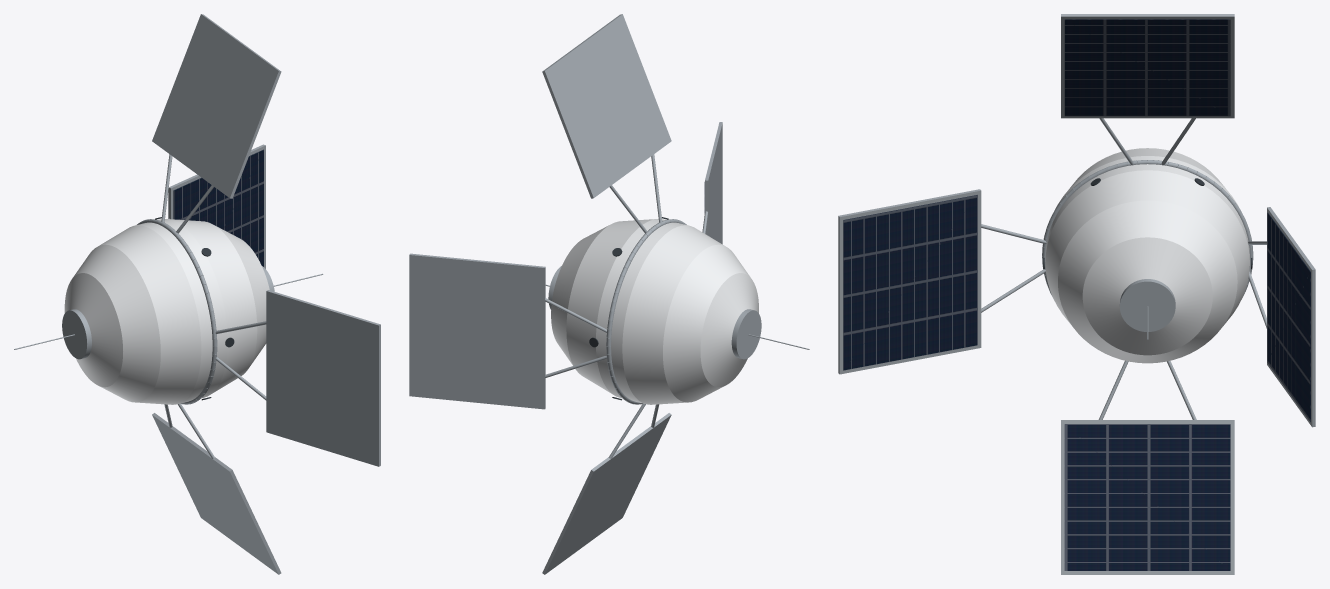
Rendered from explorer-6-atlas.glb.
3 views of the same model, side by side, from view 1: azimuth 30°, elevation 25°; view 2: azimuth 150°, elevation 25°; view 3: azimuth 270°, elevation 25° (orthographic). The views are drawn at different scales.
Visible parts, largest first — view 1: Solar paddle frame 1, Solar paddle frame 0, Spheroidal shell section 2, Spheroidal shell section 1, Solar paddle frame 2, Spheroidal shell section 4, Solar paddle cells 3, Spheroidal shell section 3, Spheroidal shell section 0, Spheroidal shell section 5, Polar instrument cap, Solar paddle frame 3; view 2: Solar paddle frame 3, Solar paddle frame 0, Spheroidal shell section 2, Spheroidal shell section 1, Solar paddle frame 2, Spheroidal shell section 4, Spheroidal shell section 3, Spheroidal shell section 0, Spheroidal shell section 5, Solar paddle frame 1, Polar instrument cap; view 3: Solar paddle cells 2, Solar paddle cells 1, Solar paddle cells 0, Spheroidal shell section 5, Spheroidal shell section 6, Spheroidal shell section 4, Solar paddle cells 3, Solar paddle frame 1, Solar paddle frame 2, Solar paddle frame 0, Polar instrument cap, Spheroidal shell section 3 (+2 smaller).
Boxes of the visible parts, bbox=[...] form: Solar paddle frame 1: bbox=[266, 290, 380, 466]; Solar paddle frame 0: bbox=[152, 14, 281, 198]; Spheroidal shell section 2: bbox=[99, 225, 201, 404]; Spheroidal shell section 1: bbox=[73, 244, 160, 402]; Solar paddle frame 2: bbox=[152, 413, 281, 574]; Spheroidal shell section 4: bbox=[168, 219, 257, 393]; Solar paddle cells 3: bbox=[173, 149, 263, 266]; Spheroidal shell section 3: bbox=[135, 219, 227, 403]; Spheroidal shell section 0: bbox=[64, 273, 122, 387]; Spheroidal shell section 5: bbox=[214, 225, 269, 367]; Polar instrument cap: bbox=[62, 309, 91, 359]; Solar paddle frame 3: bbox=[168, 144, 265, 268]; Solar paddle frame 3: bbox=[409, 253, 545, 409]; Solar paddle frame 0: bbox=[542, 14, 671, 198]; Spheroidal shell section 2: bbox=[622, 225, 724, 404]; Spheroidal shell section 1: bbox=[663, 244, 750, 402]; Solar paddle frame 2: bbox=[542, 413, 671, 574]; Spheroidal shell section 4: bbox=[566, 219, 654, 393]; Spheroidal shell section 3: bbox=[596, 219, 688, 403]; Spheroidal shell section 0: bbox=[700, 273, 758, 387]; Spheroidal shell section 5: bbox=[551, 225, 608, 365]; Solar paddle frame 1: bbox=[705, 122, 722, 244]; Polar instrument cap: bbox=[731, 309, 761, 359]; Solar paddle cells 2: bbox=[1064, 424, 1230, 570]; Solar paddle cells 1: bbox=[843, 195, 977, 370]; Solar paddle cells 0: bbox=[1064, 19, 1230, 116]; Spheroidal shell section 5: bbox=[1058, 200, 1237, 363]; Spheroidal shell section 6: bbox=[1082, 237, 1212, 355]; Spheroidal shell section 4: bbox=[1045, 170, 1249, 326]; Solar paddle cells 3: bbox=[1267, 212, 1310, 422]; Solar paddle frame 1: bbox=[838, 189, 981, 374]; Solar paddle frame 2: bbox=[1061, 420, 1234, 574]; Solar paddle frame 0: bbox=[1061, 14, 1234, 118]; Polar instrument cap: bbox=[1119, 279, 1175, 331]; Spheroidal shell section 3: bbox=[1045, 156, 1249, 261].
Size of the model in its own units: 1.35 by 2 by 1.54.
Materials: 4 (1 with a texture image).
